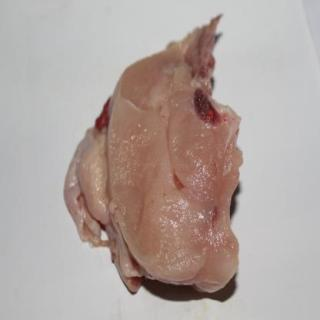Ayam: (63, 13, 245, 295)
